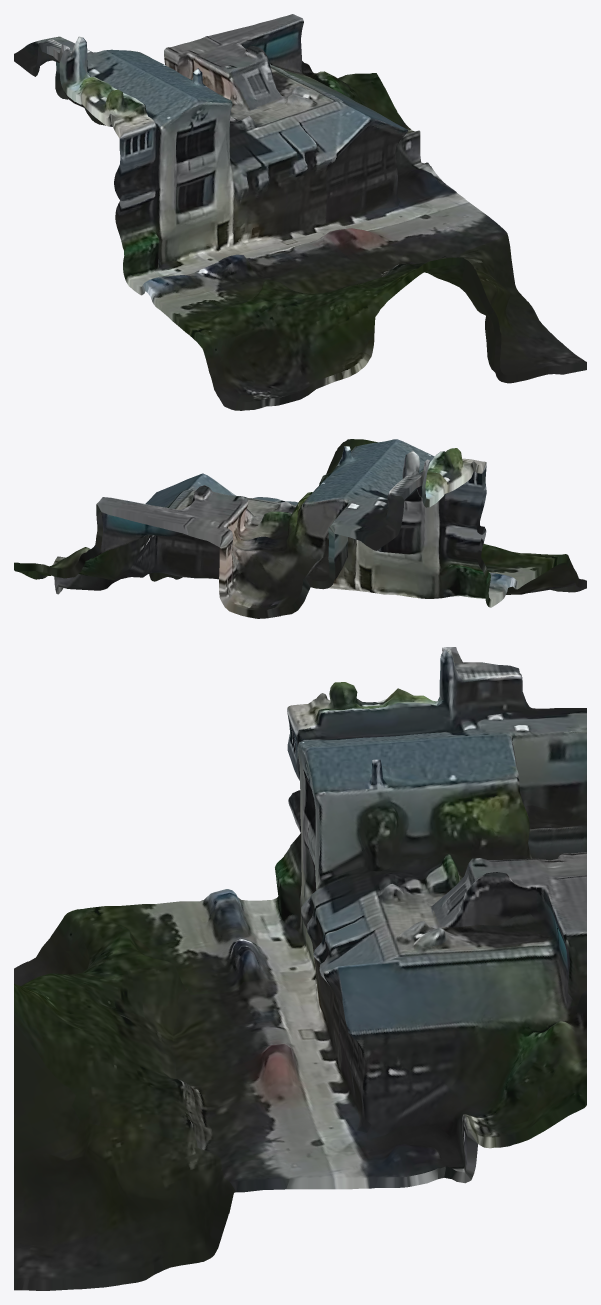
File: z20-167758-405197-h0-yup-uvflip-v3-world.glb
3 renders of one model, top to bottom at view 1: azimuth 30°, elevation 25°; view 2: azimuth 150°, elevation 25°; view 3: azimuth 270°, elevation 25°, orthographic. The views are drawn at different scales.
Bounding box in the file's own units: 30.16 × 24 × 30.32.
1 material, 1 textured.
